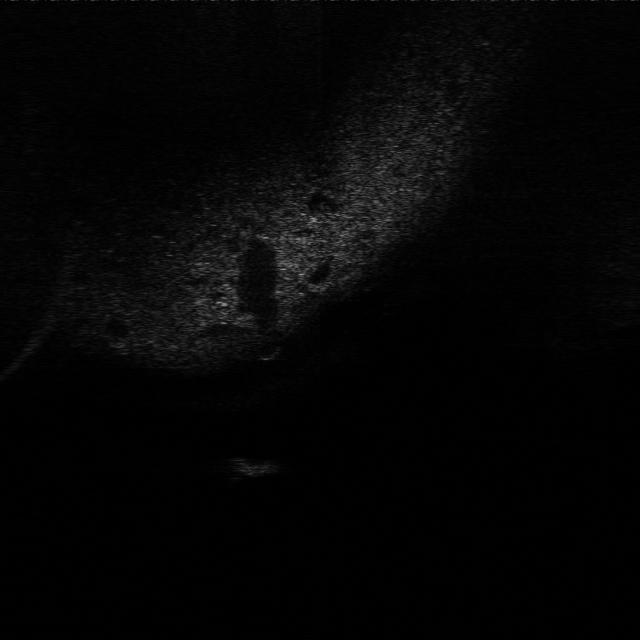cube: (223, 448, 281, 486)
